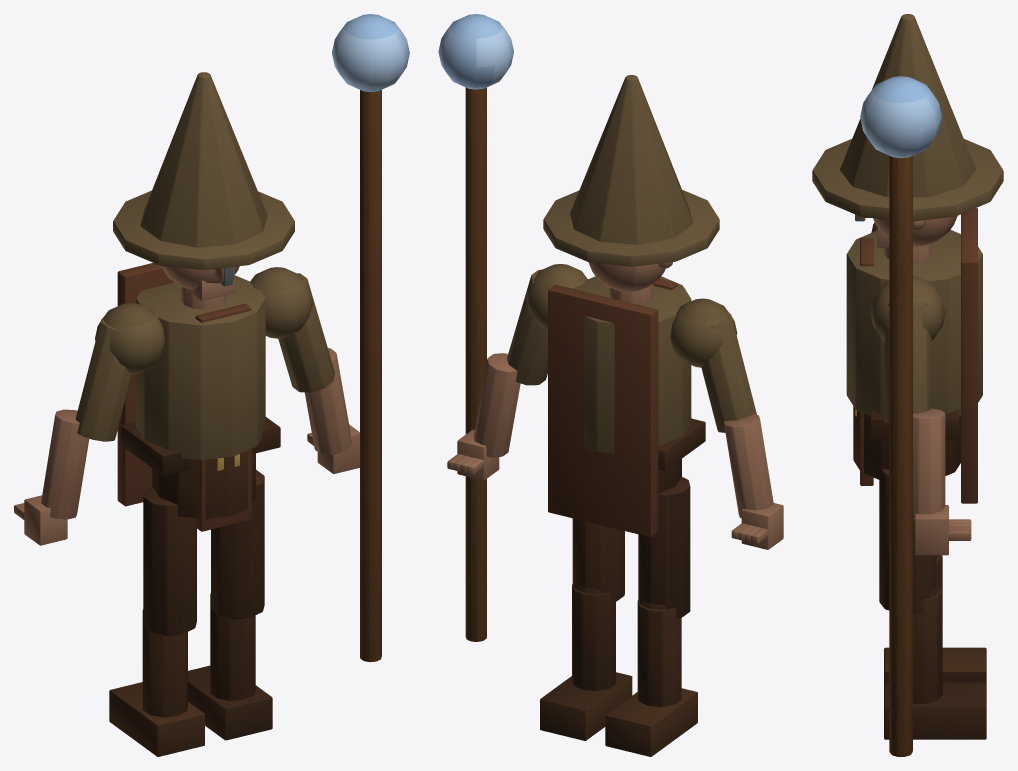
File: unit_mage.fbx
3 views of the same model, side by side, from view 1: azimuth 30°, elevation 25°; view 2: azimuth 150°, elevation 25°; view 3: azimuth 270°, elevation 25° (orthographic). The views are drawn at different scales.
Parts seen in each view (by area): view 1: unit_mage; view 2: unit_mage; view 3: unit_mage.
Part boxes in pixels (box(x1,y1,x2,y2)): unit_mage: box(14, 14, 409, 756); unit_mage: box(438, 14, 783, 756); unit_mage: box(812, 14, 1003, 756).
Bounding box in the file's own units: 1.27 × 2.31 × 0.5586.
